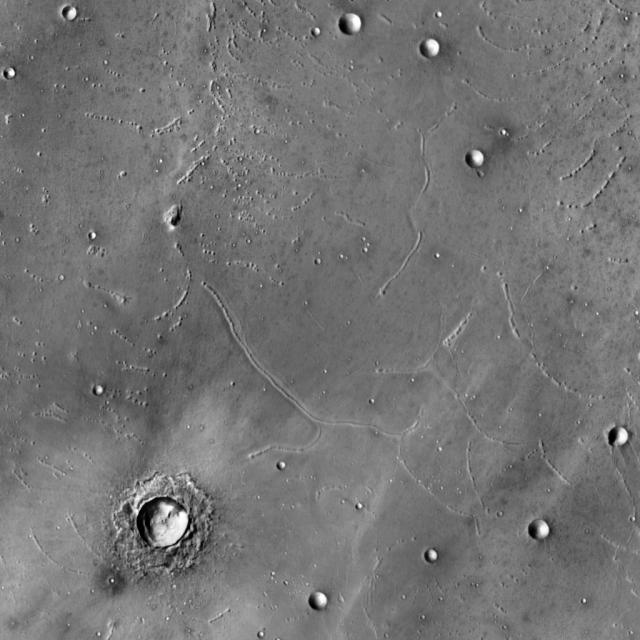crater: (187, 0, 640, 434), (145, 500, 196, 550), (346, 15, 367, 36), (617, 427, 637, 447), (428, 41, 448, 61), (537, 524, 557, 544), (316, 594, 334, 612), (472, 152, 490, 169), (10, 72, 22, 84), (432, 551, 444, 563), (72, 10, 83, 22), (100, 389, 110, 399), (95, 235, 103, 242), (312, 21, 319, 28), (257, 626, 264, 633), (278, 457, 284, 464), (356, 497, 362, 504), (436, 6, 442, 12)
